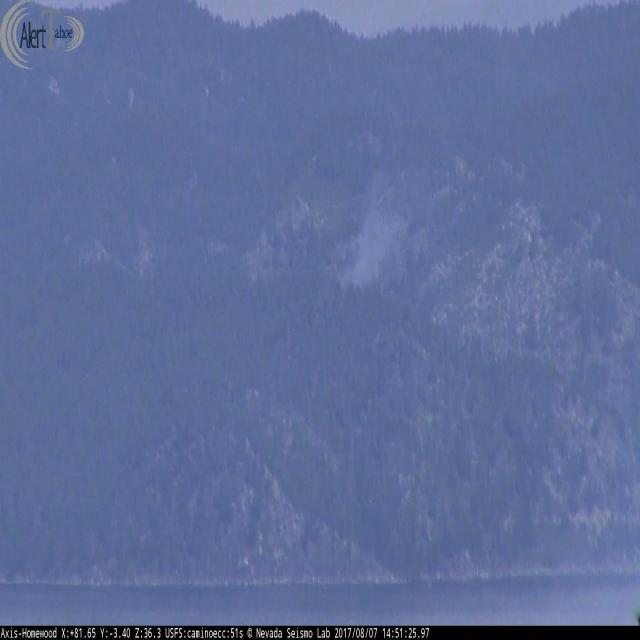smoke: (338, 198, 389, 294)
